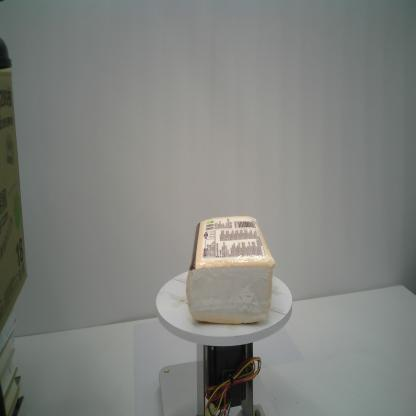Tissue: (185, 214, 276, 326)
